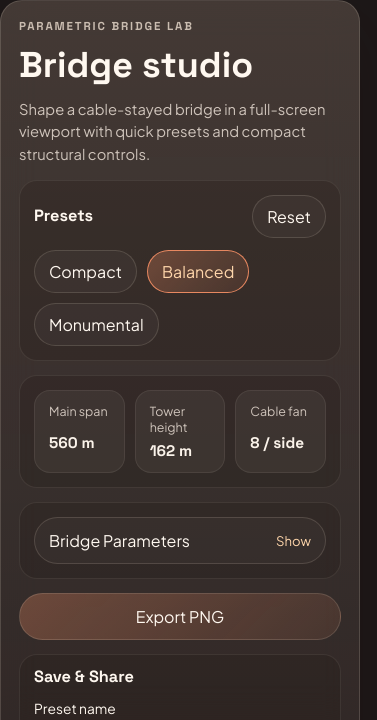
it: BridgeControls › switches presets and clamps user input to the configured maximum
This screenshot has width=377, height=720.
Click the button "Monumental". click: coordinates (96, 324)
box: [34,303,159,346]
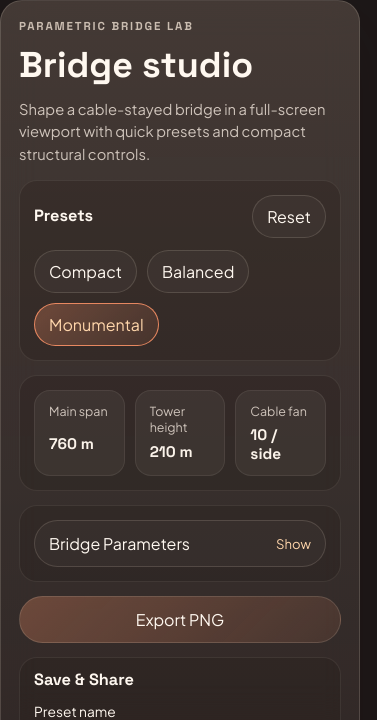
Click the button "Bridge Parameters Show". click: coordinates (180, 544)
box: [34,520,326,567]
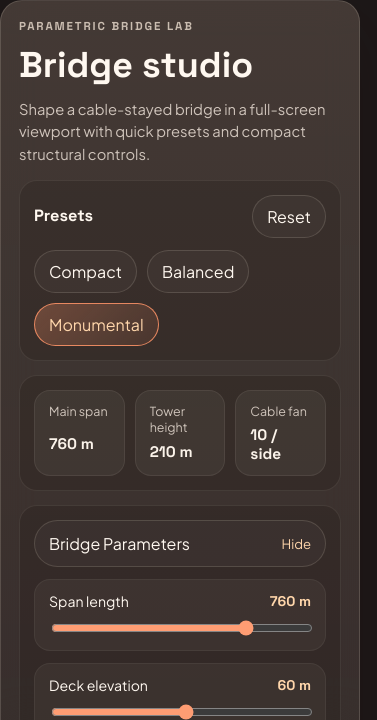
Now the slider labelled "Span length" holds "760"
Set the slider labelled "Span length" to "1200". click: coordinates (182, 628)
box: [51,620,313,636]
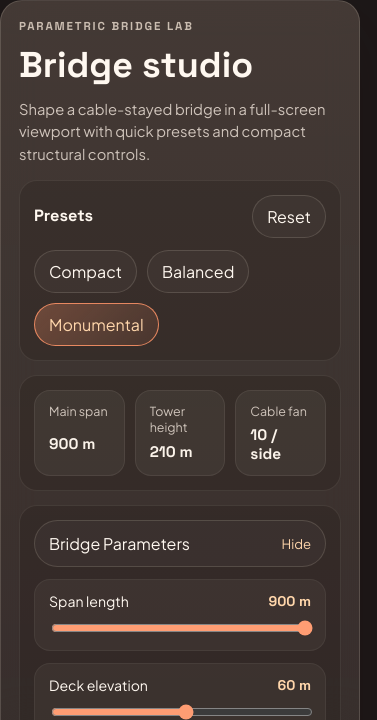
Now the slider labelled "Span length" holds "900", box [51,620,313,636]
